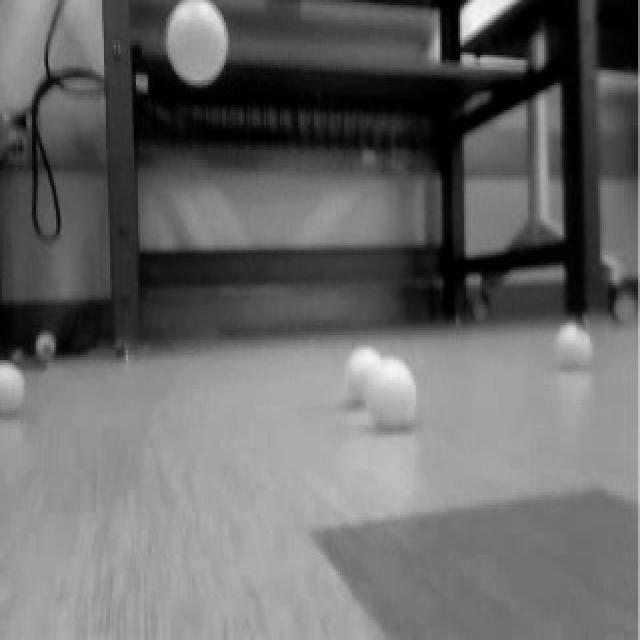ping-pong-ball: (156, 0, 234, 93), (372, 354, 419, 430), (556, 319, 601, 381), (345, 340, 382, 405), (0, 358, 30, 421), (34, 334, 61, 369)
